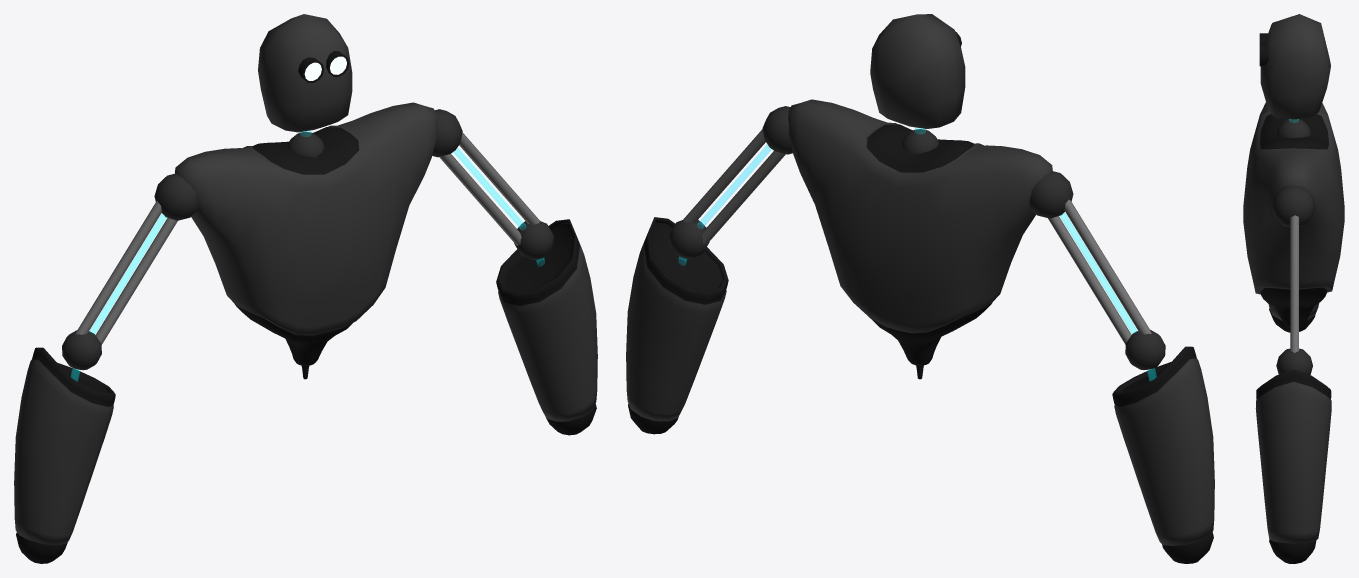
The model's file is Mesh_ShootingBot.FBX.
The picture shows the model from 3 angles, left to right: view 1: azimuth 30°, elevation 25°; view 2: azimuth 150°, elevation 25°; view 3: azimuth 270°, elevation 25°; orthographic projection. The views are drawn at different scales.
Visible parts, largest first — view 1: Box001, Cylinder012, Box007, Cylinder014, Cylinder013, Sphere005, Sphere007, Cylinder015, Sphere006, Sphere004; view 2: Box001, Cylinder012, Box007, Cylinder014, Cylinder013, Sphere005, Sphere007, Cylinder015, Sphere006, Sphere004; view 3: Box001, Cylinder012, Box007, Sphere005, Cylinder014, Sphere006, Sphere007, Sphere004, Cylinder016.
Boxes of the visible parts, x1,y1,x2,y2 form: Box001: [175, 102, 437, 379]; Cylinder012: [14, 219, 597, 545]; Box007: [258, 14, 352, 132]; Cylinder014: [75, 132, 539, 334]; Cylinder013: [95, 154, 521, 344]; Sphere005: [154, 109, 462, 220]; Sphere007: [62, 221, 553, 370]; Cylinder015: [90, 147, 525, 333]; Sphere006: [16, 404, 596, 563]; Sphere004: [287, 131, 324, 157]; Box001: [788, 99, 1052, 379]; Cylinder012: [626, 217, 1214, 546]; Box007: [870, 14, 965, 128]; Cylinder014: [683, 129, 1151, 334]; Cylinder013: [702, 151, 1131, 344]; Sphere005: [762, 106, 1073, 218]; Sphere007: [669, 220, 1165, 369]; Cylinder015: [697, 144, 1137, 333]; Sphere006: [628, 404, 1213, 563]; Sphere004: [902, 129, 938, 154]; Box001: [1243, 102, 1344, 327]; Cylinder012: [1255, 303, 1331, 543]; Box007: [1260, 14, 1330, 119]; Sphere005: [1272, 185, 1315, 227]; Cylinder014: [1290, 215, 1298, 352]; Sphere006: [1269, 308, 1316, 563]; Sphere007: [1276, 348, 1312, 374]; Sphere004: [1276, 119, 1311, 137]; Cylinder016: [1259, 44, 1268, 66].
Size of the model in its own units: 463 by 368 by 78.61.
